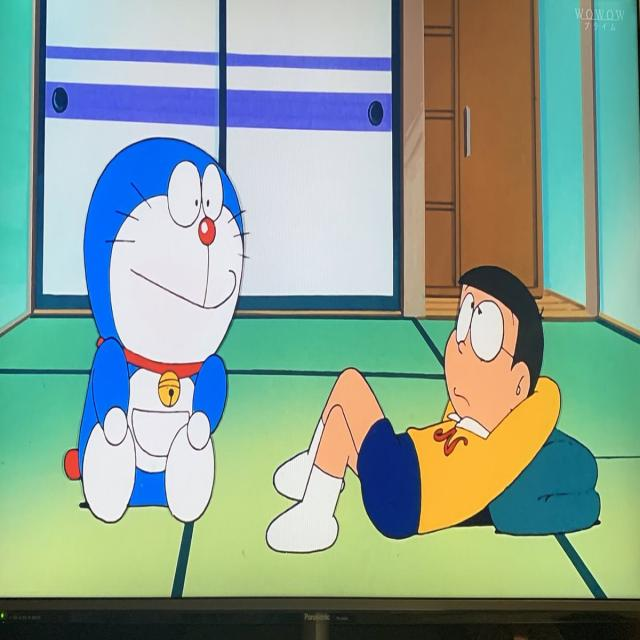doraemon: (74, 123, 250, 419)
nobita: (439, 260, 547, 450)
